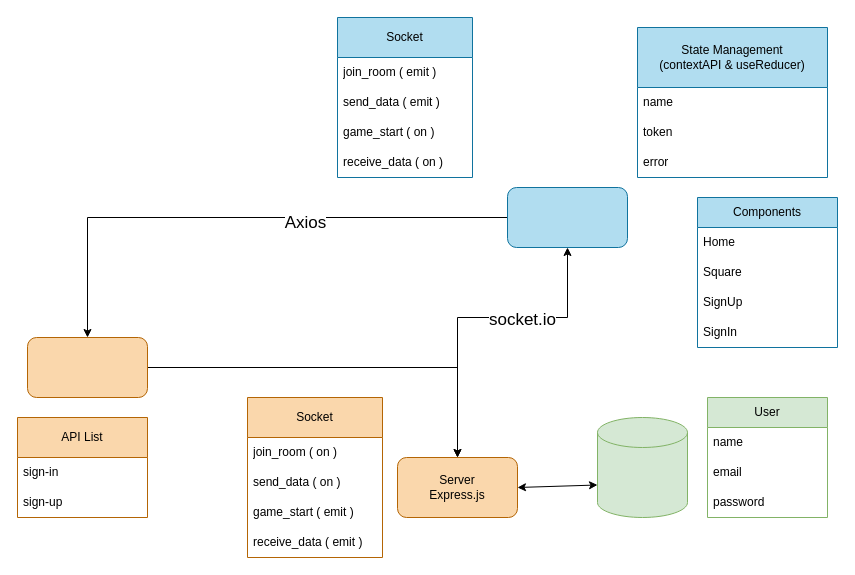
The diagram is 855 pixels wide and 575 high, and some of its shapes have lost their labels. The centre of each missing label's shape, as x and y in pixels:
"API User" goes at point (87, 367).
"Database MongoDB" goes at point (642, 467).
"Frontend React.js" goes at point (567, 217).
